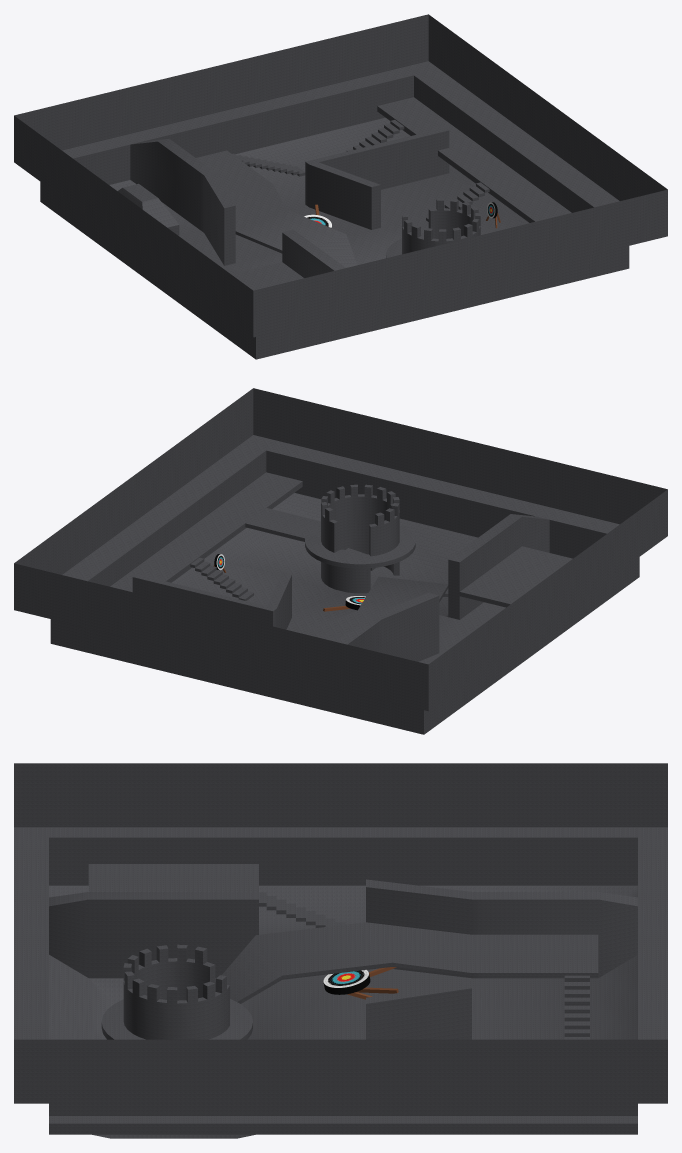
The model's file is collision-world-2.glb.
3 views of the same model, one above another, from view 1: azimuth 30°, elevation 25°; view 2: azimuth 150°, elevation 25°; view 3: azimuth 270°, elevation 25° (orthographic). The views are drawn at different scales.
Visible parts, largest first — view 1: Cube.004; view 2: Cube.004; view 3: Cube.004, Target_0.001.
Part boxes in pixels (box(x1,y1,x2,y2)): Cube.004: box(14, 14, 667, 359); Cube.004: box(14, 388, 667, 734); Cube.004: box(14, 763, 667, 1138); Target_0.001: box(323, 967, 398, 999).
Size of the model in its own units: 34.36 by 8.6 by 34.36.
4 materials, 2 textured.
